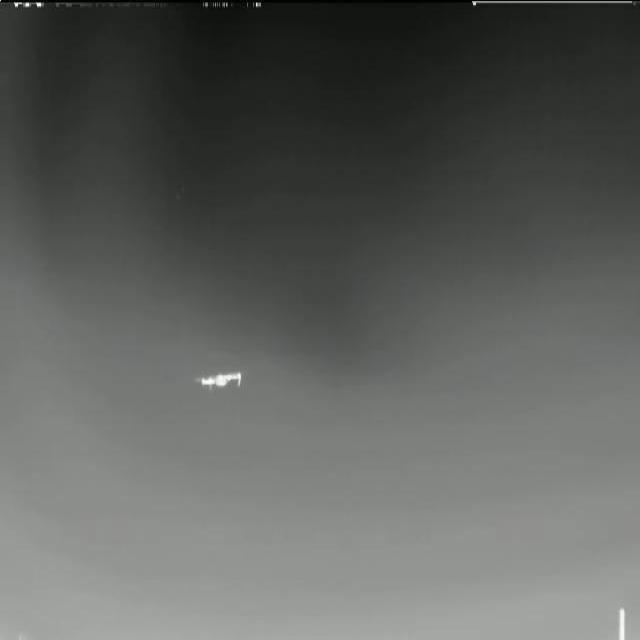DRONE: (188, 363, 250, 399)
